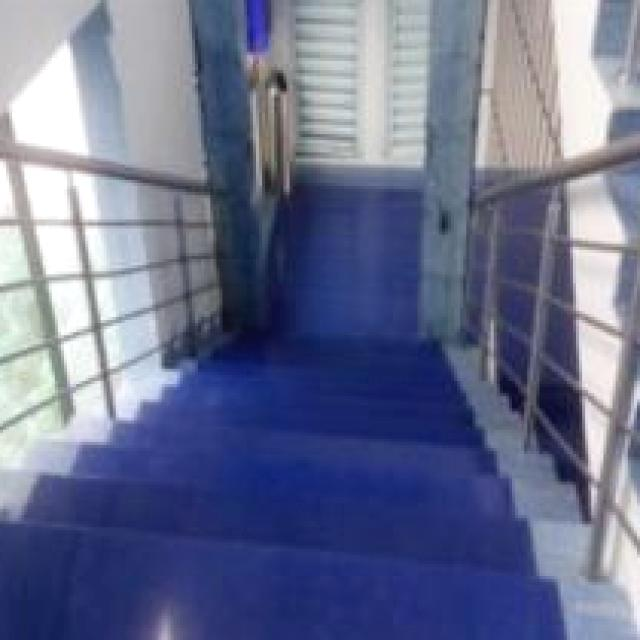downstair: (28, 376, 516, 623)
